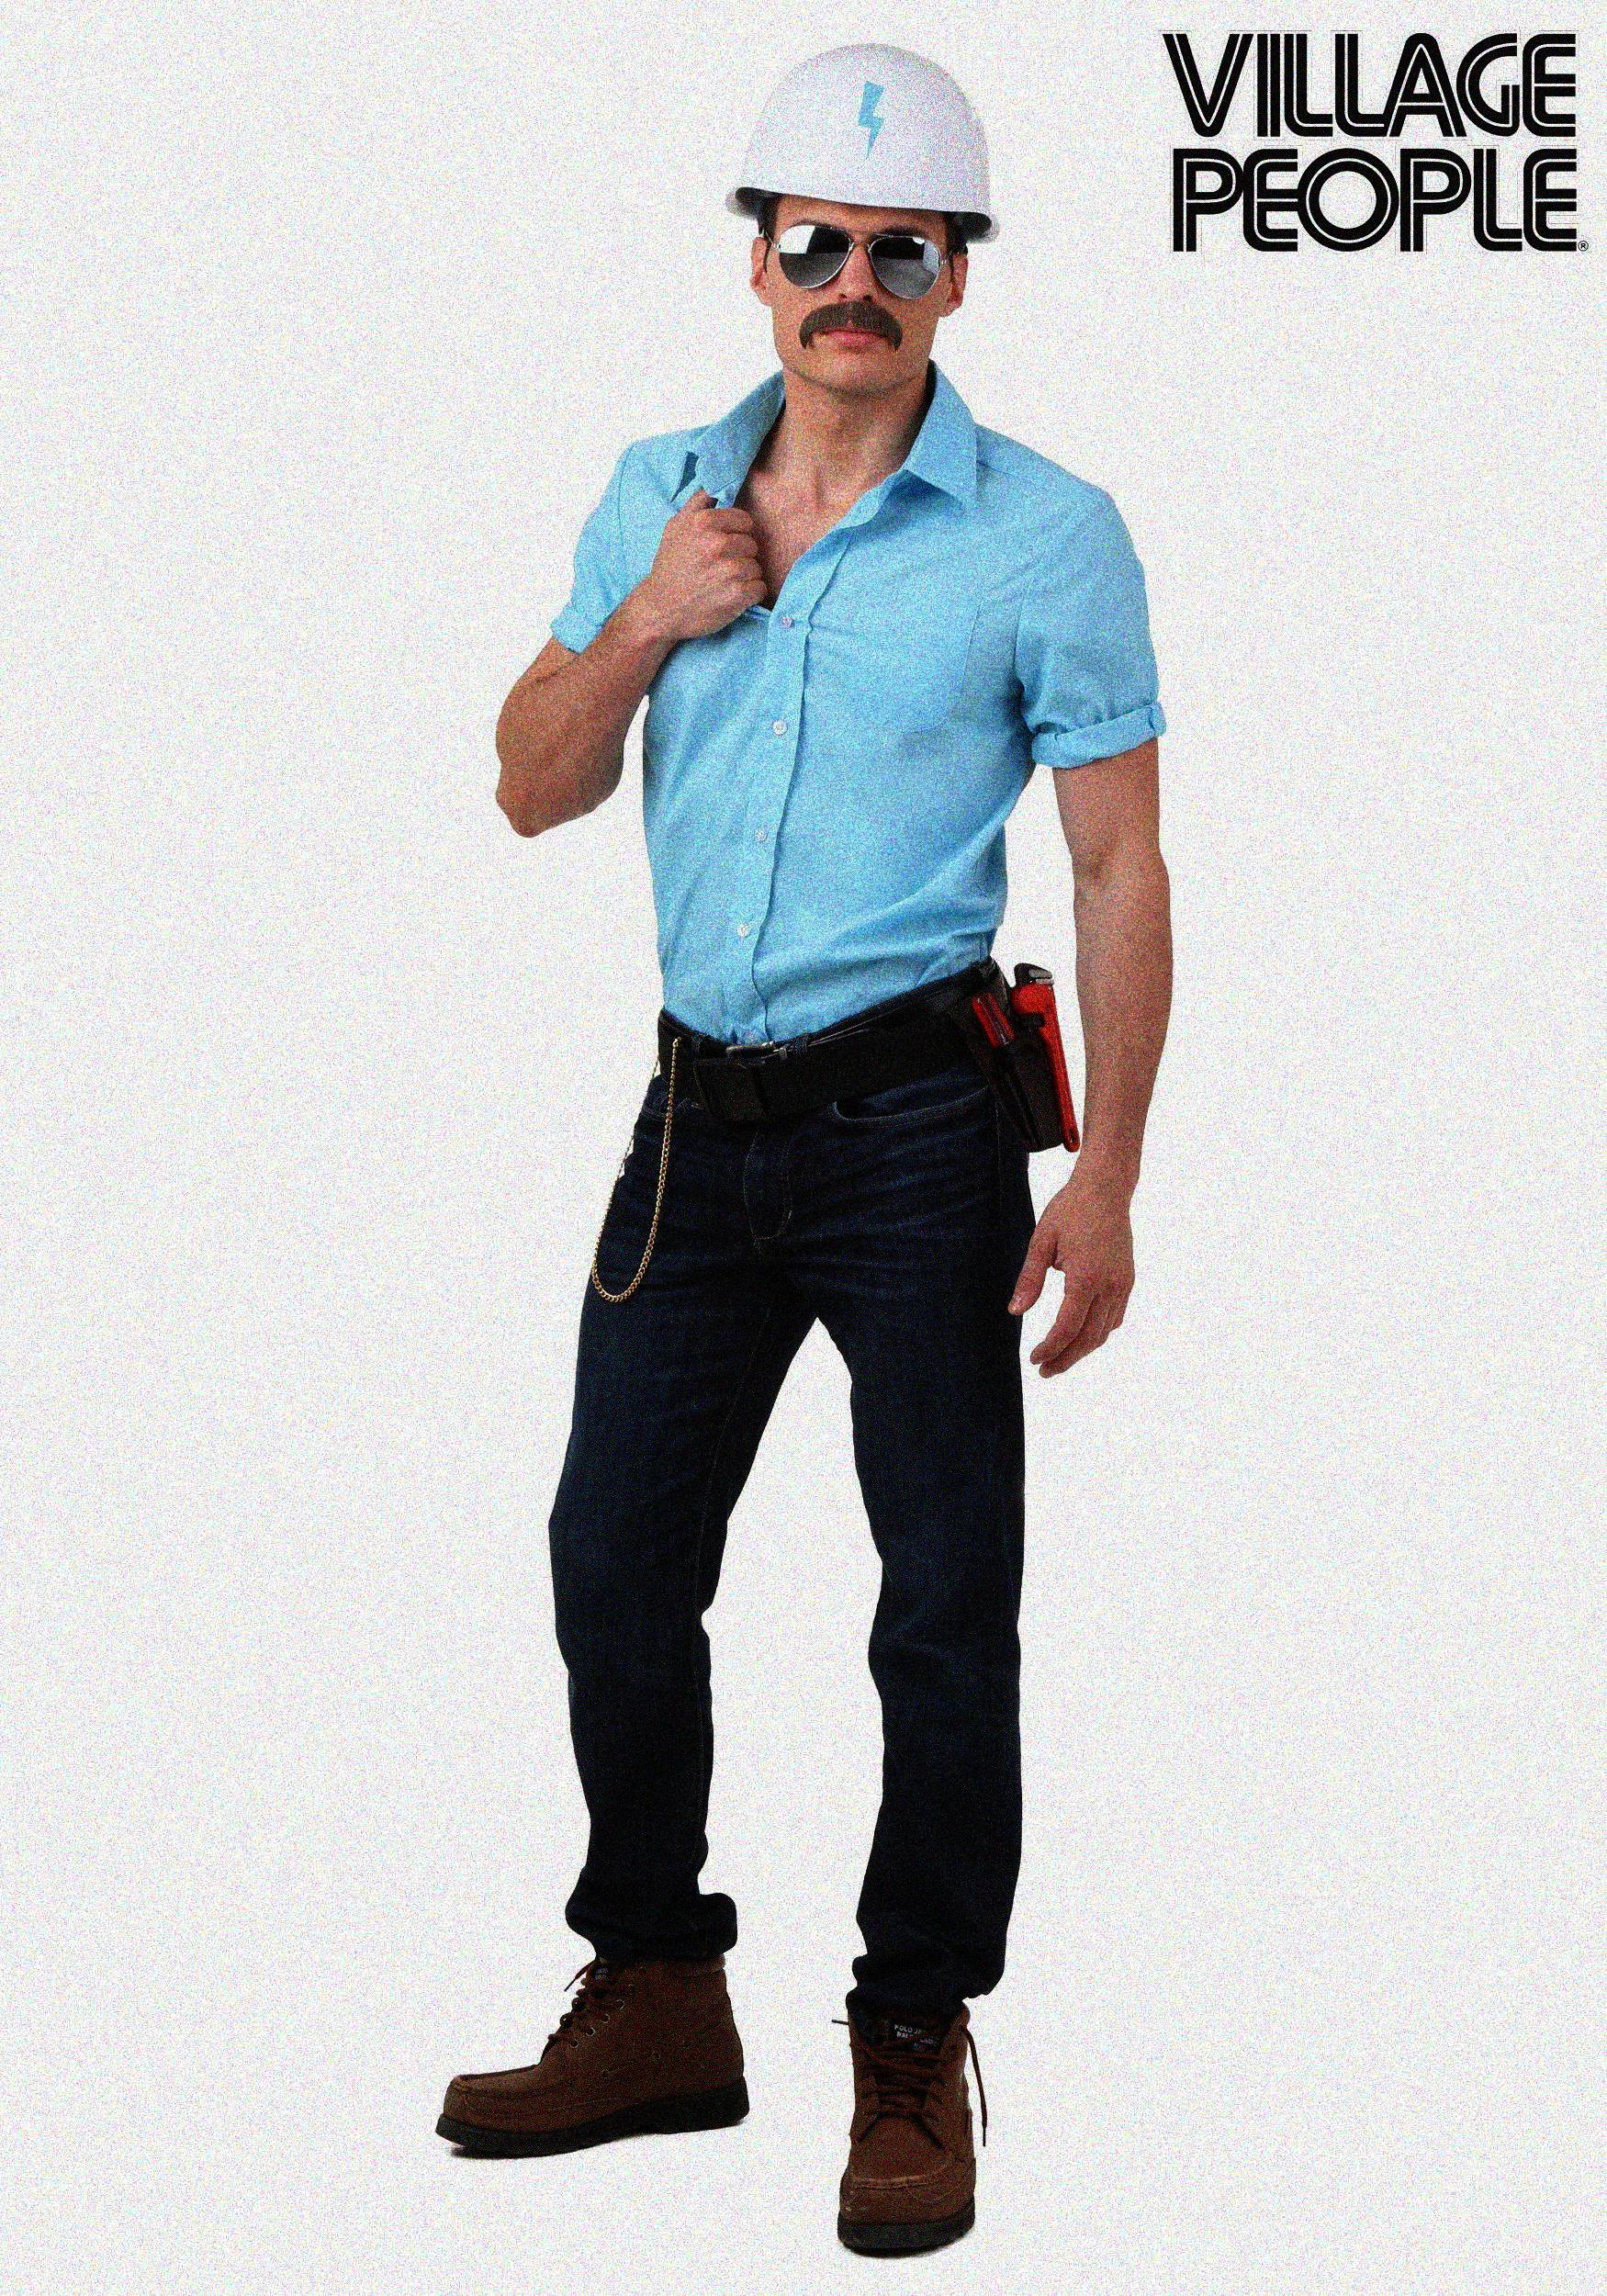helmet: (712, 24, 1005, 389)
